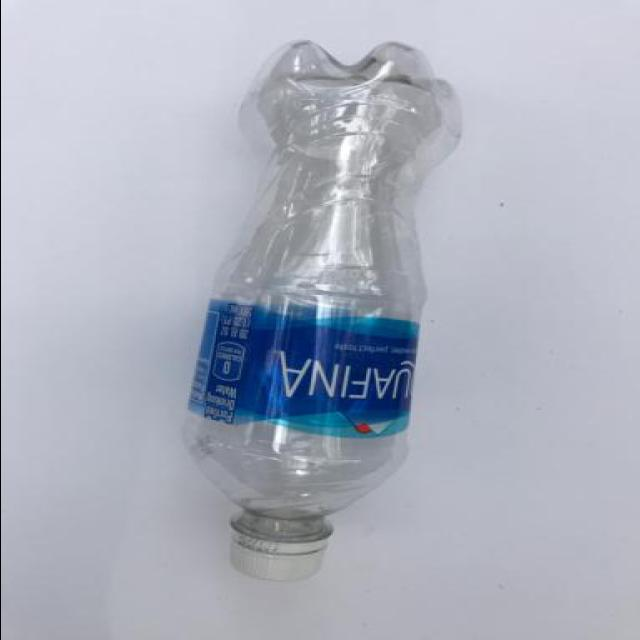PET: (173, 35, 467, 581)
